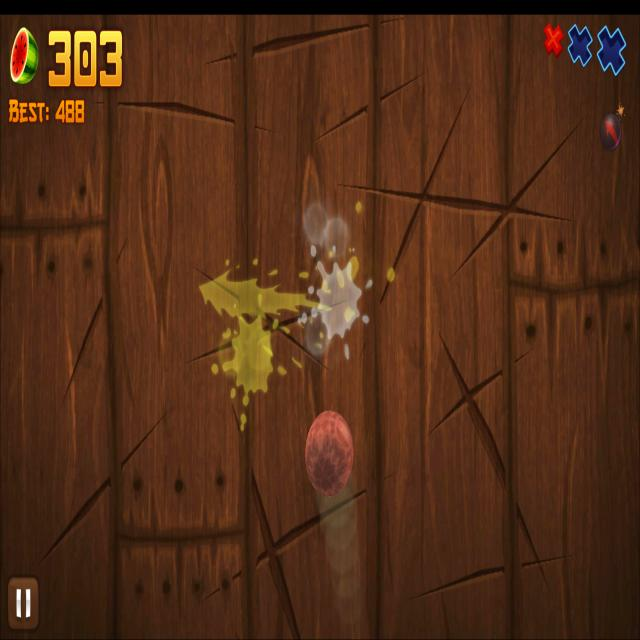fruit: (304, 409, 354, 497)
